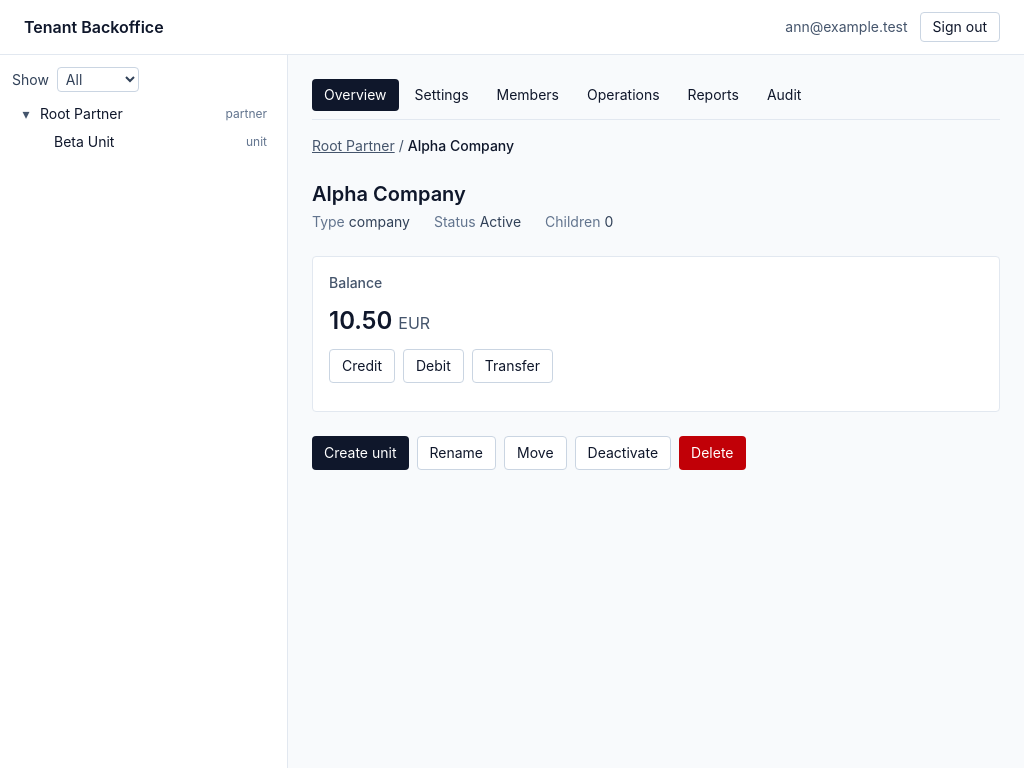
Scenario: balance operations › [T-W-04] a double click on the confirm button sends exactly one request
Click the button "Debit" at (433, 366), box [403,349,464,383]
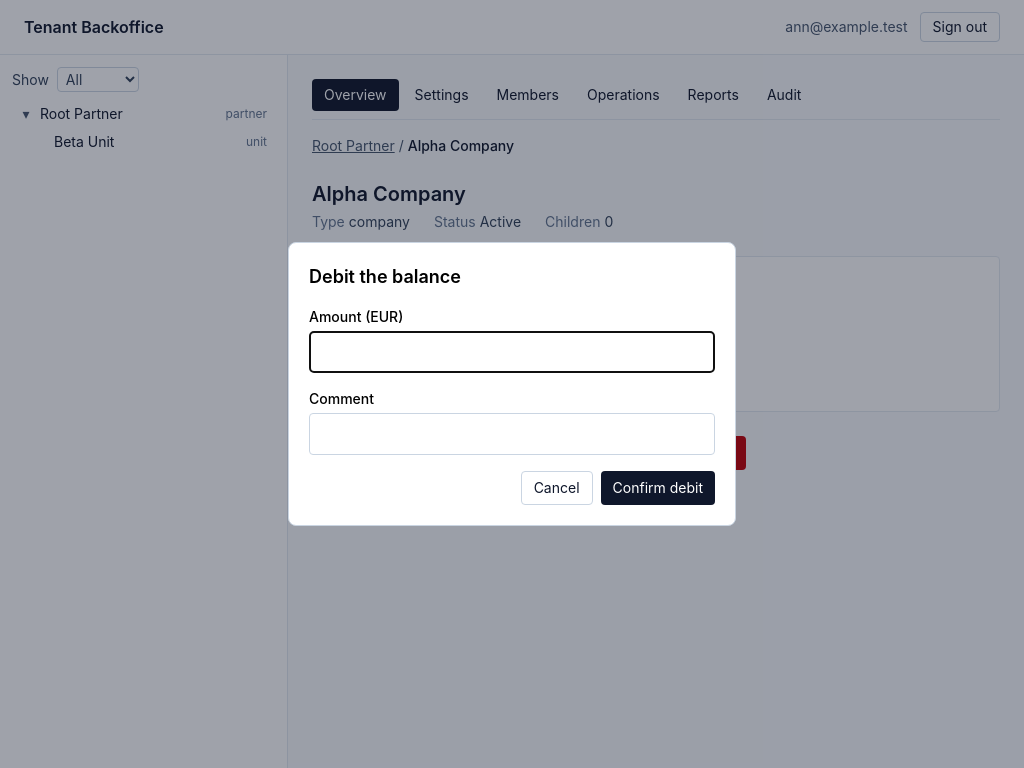
Type "10.50" into the field labelled "Amount (EUR)" at (512, 352), box [309,331,715,373]
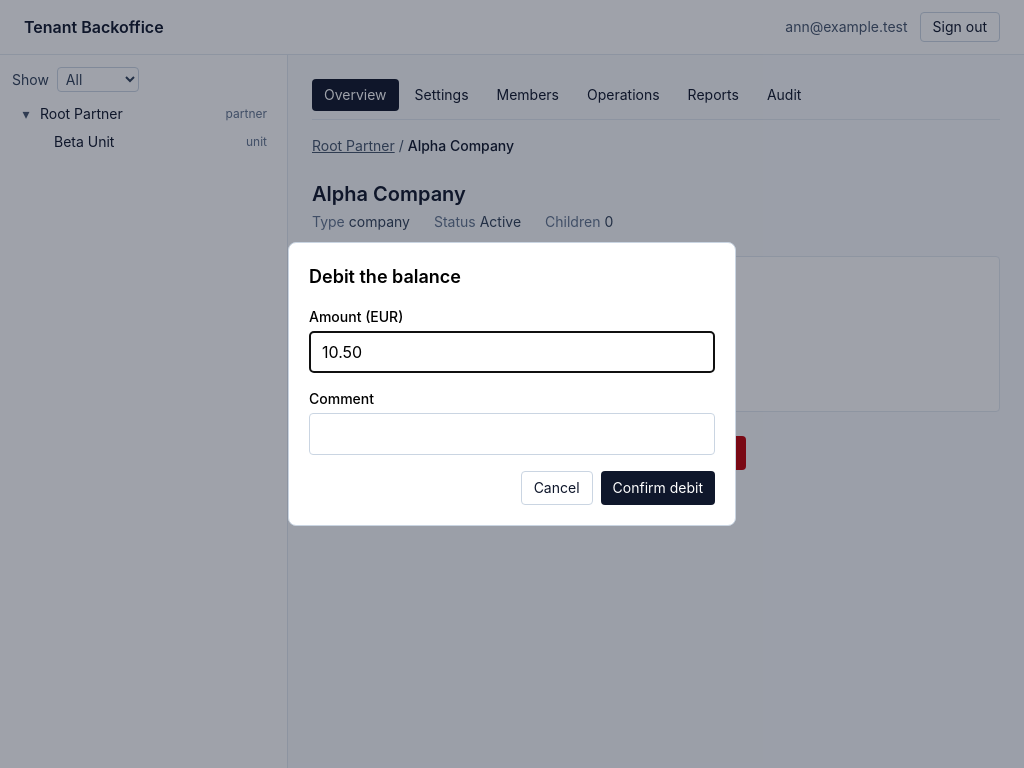
Double-click the button "Confirm debit" at (658, 488), box [601,471,715,505]
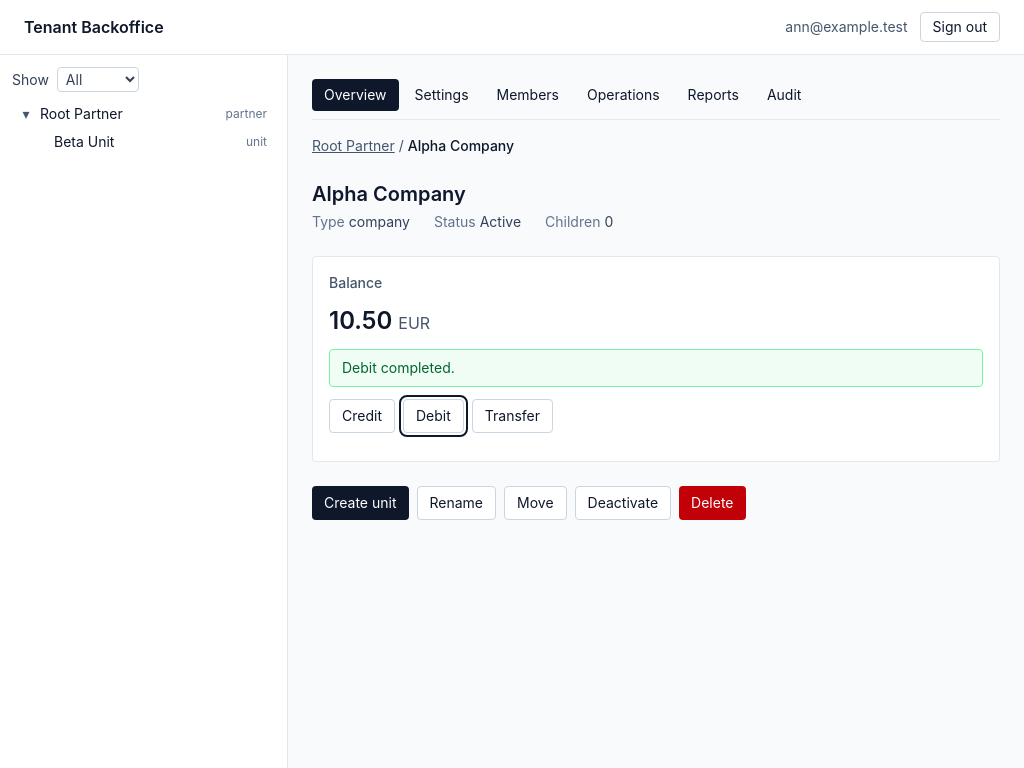
Check: the text "Debit completed." is shown, box [329,349,983,387]
